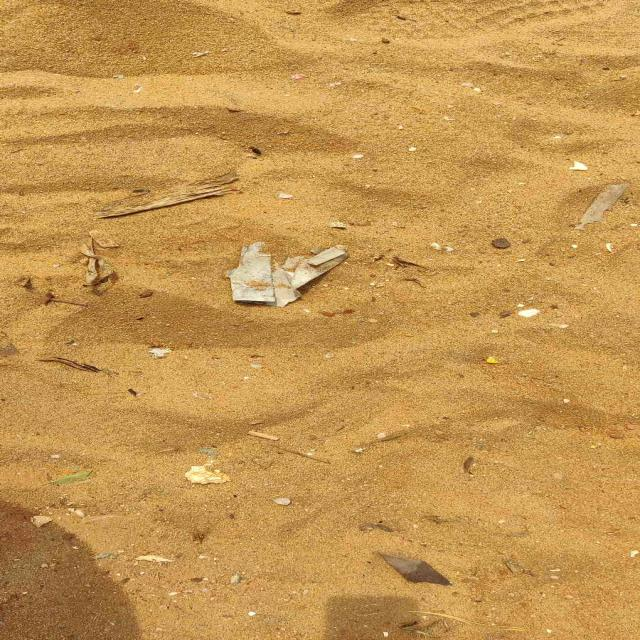paper: (225, 242, 346, 306)
